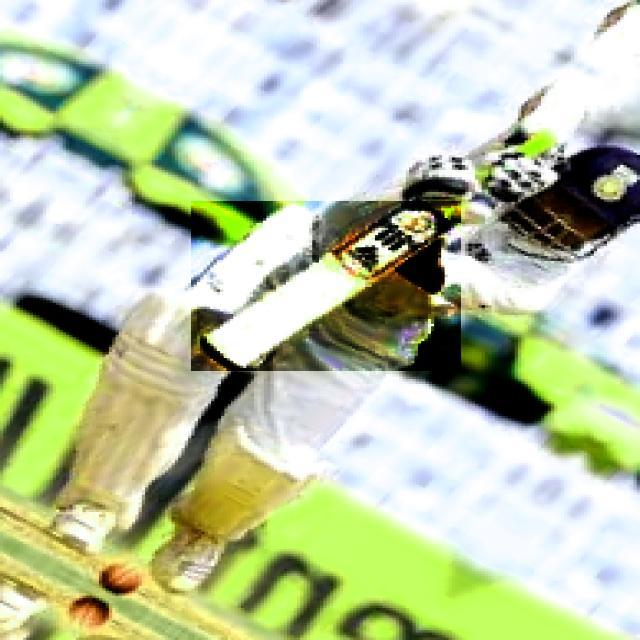bat: (190, 204, 462, 368)
toe: (188, 336, 249, 371)
